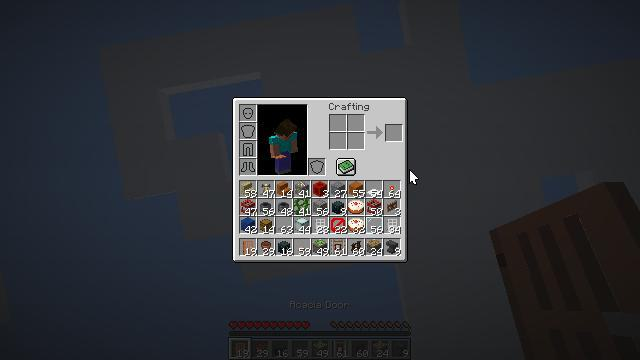cursor: (409, 169, 419, 185)
